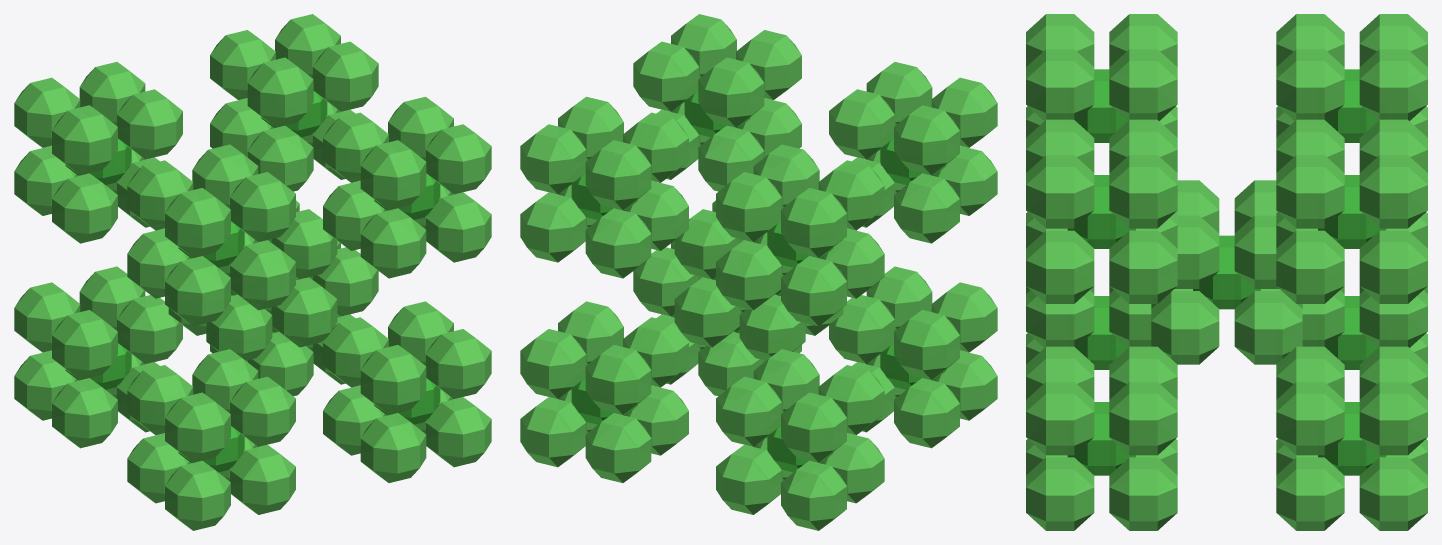
Rendered from fractalrhombicuboctahedron2.glb.
3 views of the same model, side by side, from view 1: azimuth 30°, elevation 25°; view 2: azimuth 150°, elevation 25°; view 3: azimuth 270°, elevation 25° (orthographic). The views are drawn at different scales.
Size of the model in its own units: 6.62 by 6.62 by 6.62.
